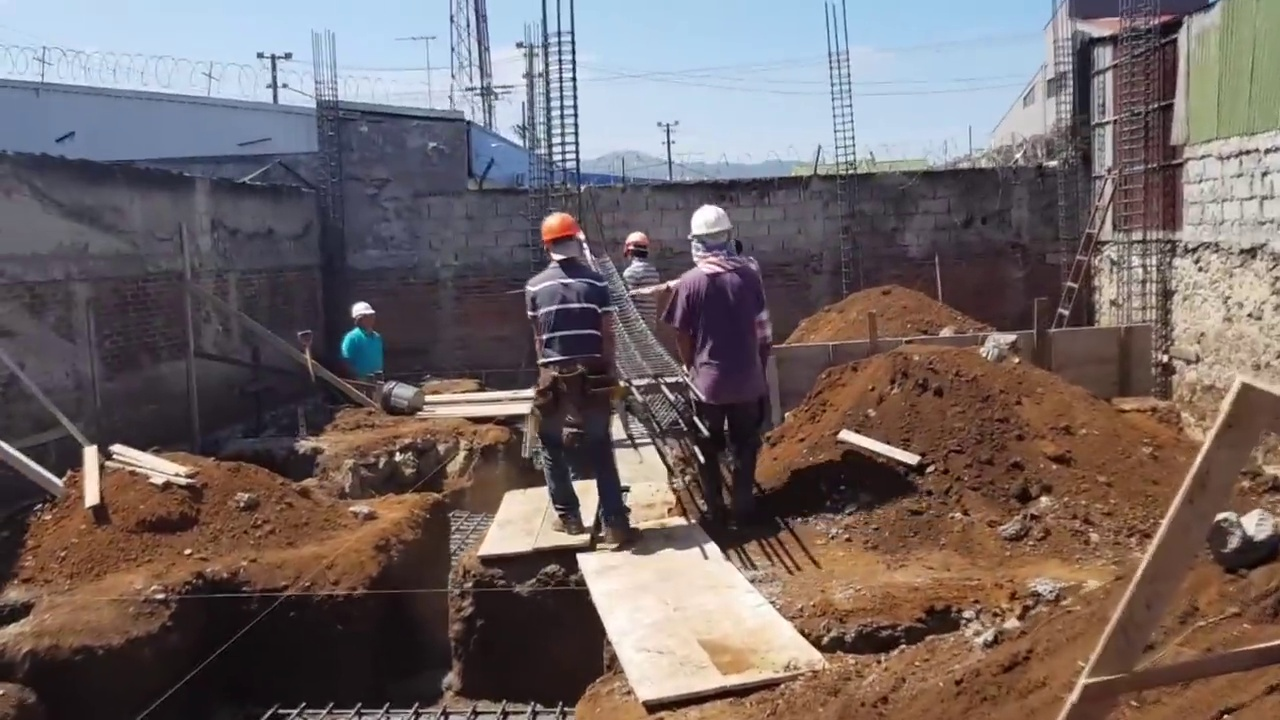helmet: (687, 205, 737, 244), (540, 213, 583, 245), (348, 302, 378, 318), (624, 232, 649, 250)
helmet-on: (686, 205, 738, 270), (539, 214, 587, 269), (347, 303, 376, 335), (624, 232, 649, 263)
person: (517, 214, 639, 545), (670, 194, 768, 547), (621, 232, 660, 335), (332, 302, 383, 380)
